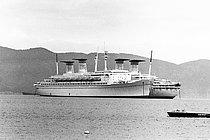Ship: (31, 51, 187, 102)
